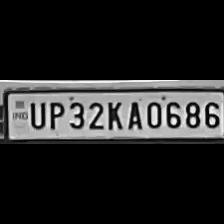0: (142, 98, 162, 128)
2: (86, 98, 104, 130)
3: (65, 98, 84, 130)
6: (202, 97, 220, 129), (164, 98, 181, 130)
8: (183, 98, 201, 130)
A: (124, 98, 142, 130)
K: (104, 98, 122, 130)
P: (45, 99, 63, 130)
U: (27, 98, 46, 130)
